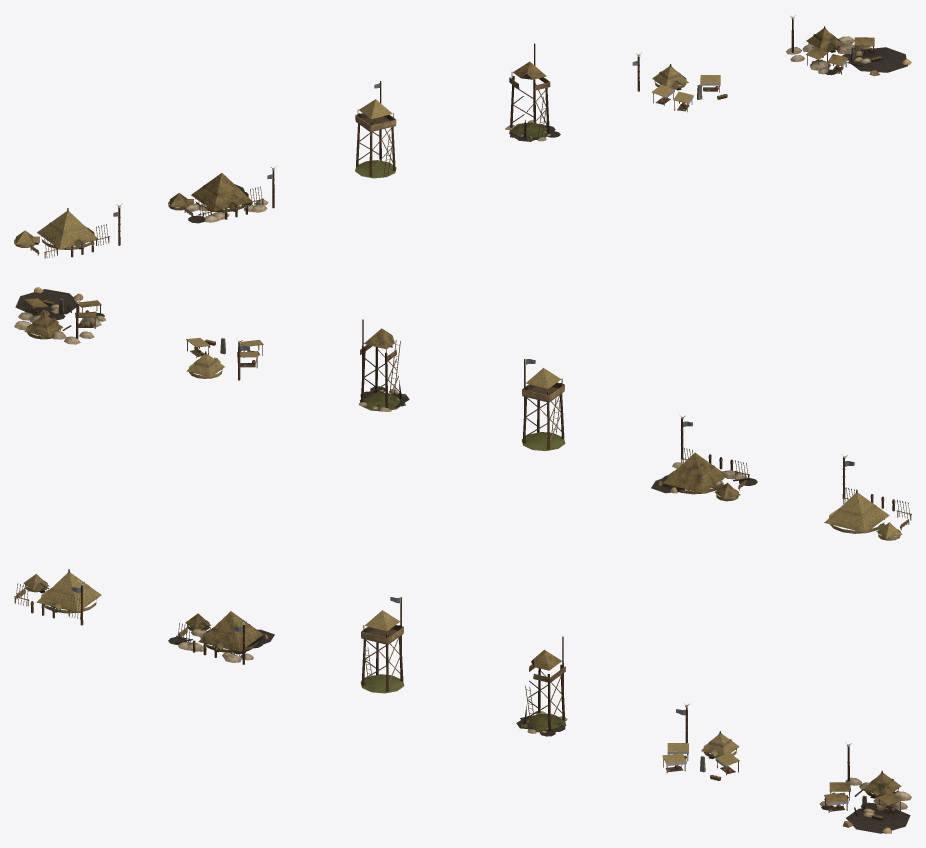
The model's file is rts-stone-sinic.glb.
3 views of the same model, one above another, from view 1: azimuth 30°, elevation 25°; view 2: azimuth 150°, elevation 25°; view 3: azimuth 330°, elevation 25° (orthographic). The views are drawn at different scales.
Parts seen in each view (by area): view 1: LOD0.005, LOD0.001, LOD0, LOD0.002, LOD0.003, LOD0.004; view 2: LOD0.005, LOD0.001, LOD0.002, LOD0, LOD0.003, LOD0.004; view 3: LOD0.005, LOD0.001, LOD0.002, LOD0, LOD0.003, LOD0.004.
Part boxes in pixels (<box>): LOD0.005: <box>786,15,911,76</box>; LOD0.001: <box>168,165,276,223</box>; LOD0: <box>14,203,122,258</box>; LOD0.002: <box>355,81,396,178</box>; LOD0.003: <box>505,43,560,141</box>; LOD0.004: <box>632,52,727,112</box>; LOD0.005: <box>14,287,105,344</box>; LOD0.001: <box>651,414,757,501</box>; LOD0.002: <box>521,359,565,450</box>; LOD0: <box>824,454,911,540</box>; LOD0.003: <box>358,319,409,411</box>; LOD0.004: <box>186,338,263,380</box>; LOD0.005: <box>819,742,911,833</box>; LOD0.001: <box>168,611,274,664</box>; LOD0.002: <box>360,597,404,693</box>; LOD0: <box>14,569,101,625</box>; LOD0.003: <box>516,636,567,736</box>; LOD0.004: <box>662,702,739,780</box>.
Size of what is drawn, in the model's own units: 16.84 by 1.5 by 1.79.
Materials: 2 (2 with a texture image).
